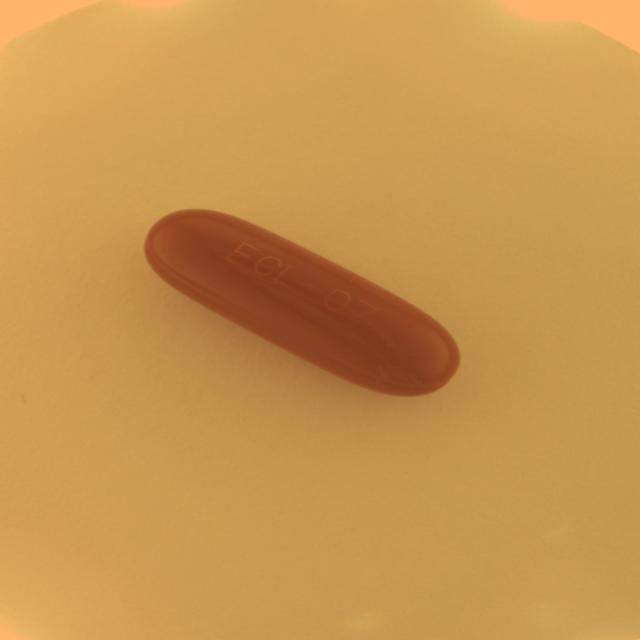Oval: (145, 206, 458, 401)
